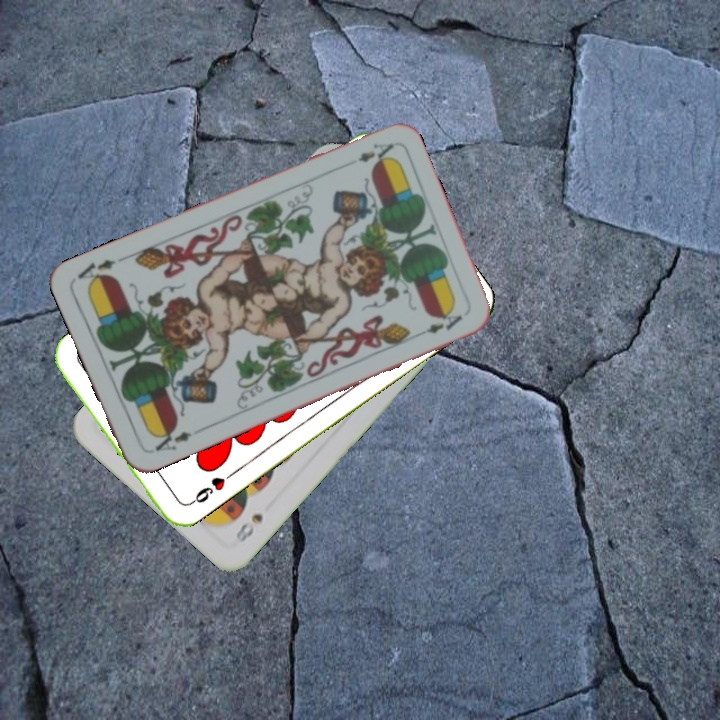EA: (150, 423, 194, 454), (354, 138, 397, 166)
H9: (183, 469, 235, 509)
S8: (232, 509, 266, 546)
